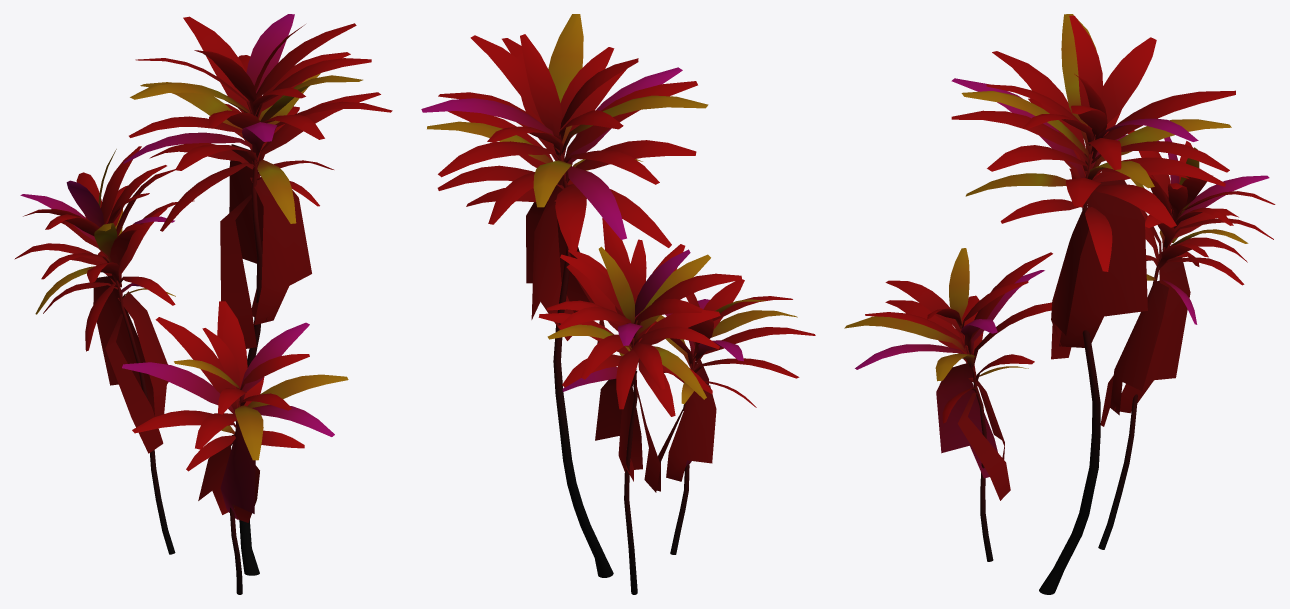
File: Pink_cordyline_var1.fbx
3 views of the same model, side by side, from view 1: azimuth 30°, elevation 25°; view 2: azimuth 150°, elevation 25°; view 3: azimuth 270°, elevation 25° (orthographic). The views are drawn at different scales.
Parts seen in each view (by area): view 1: Pink_Cordyline_var1_LOD0; view 2: Pink_Cordyline_var1_LOD0; view 3: Pink_Cordyline_var1_LOD0.
Boxes of the visible parts, box(x1,y1,x2,y2) form: Pink_Cordyline_var1_LOD0: box(14, 14, 392, 594); Pink_Cordyline_var1_LOD0: box(421, 14, 815, 594); Pink_Cordyline_var1_LOD0: box(844, 14, 1275, 594).
Size of what is drawn, in the model's own units: 1.96 by 3.15 by 2.22.
